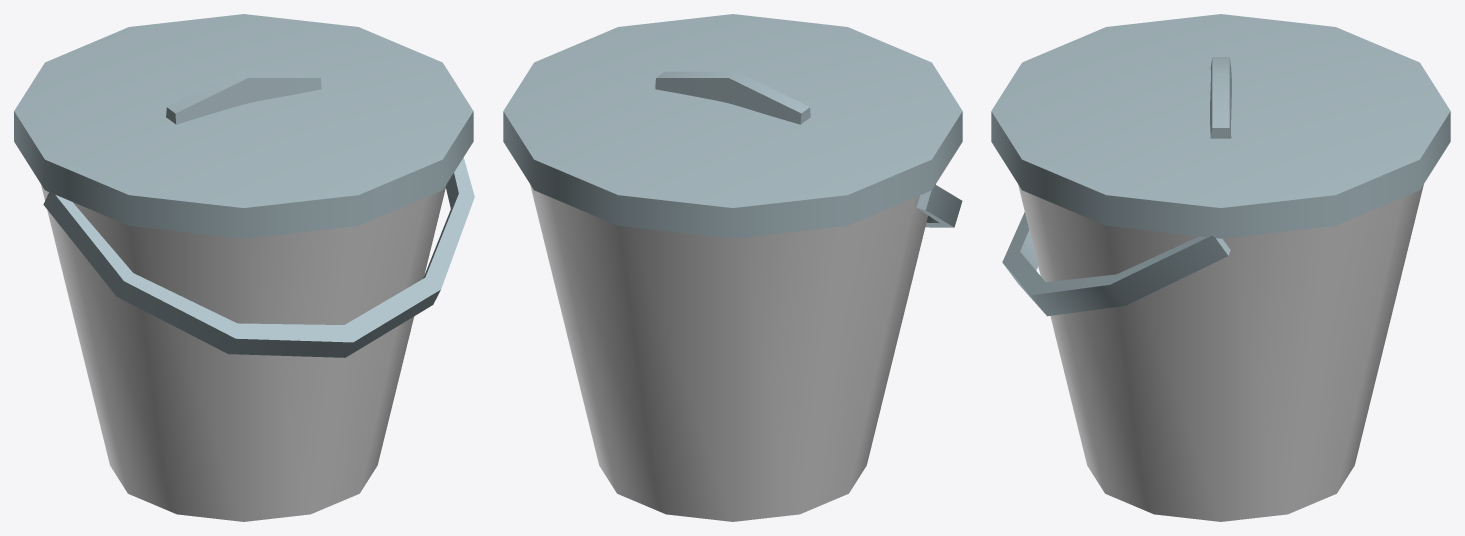
Rendered from bathroom_item_009.glb.
3 renders of one model, left to right at view 1: azimuth 30°, elevation 25°; view 2: azimuth 150°, elevation 25°; view 3: azimuth 270°, elevation 25°, orthographic.
Visible parts, largest first — view 1: bathroom_item_009; view 2: bathroom_item_009; view 3: bathroom_item_009.
Boxes of the visible parts, x1,y1,x2,y2 form: bathroom_item_009: (14, 14, 474, 521); bathroom_item_009: (503, 14, 962, 521); bathroom_item_009: (991, 14, 1450, 521).
Size of the model in its own units: 0.2225 by 0.2088 by 0.2225.
1 material, 1 textured.
